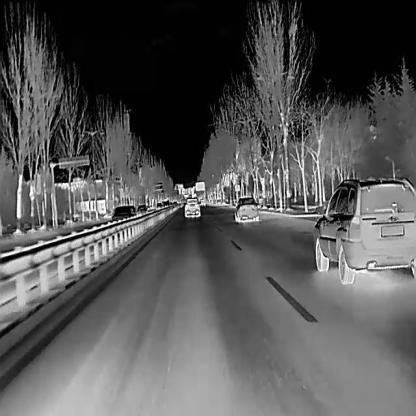car: (313, 176, 415, 285), (233, 193, 258, 222), (110, 204, 136, 227), (183, 195, 201, 216), (135, 203, 150, 217), (156, 201, 162, 211), (200, 198, 205, 206), (169, 202, 173, 207), (172, 201, 177, 205)
